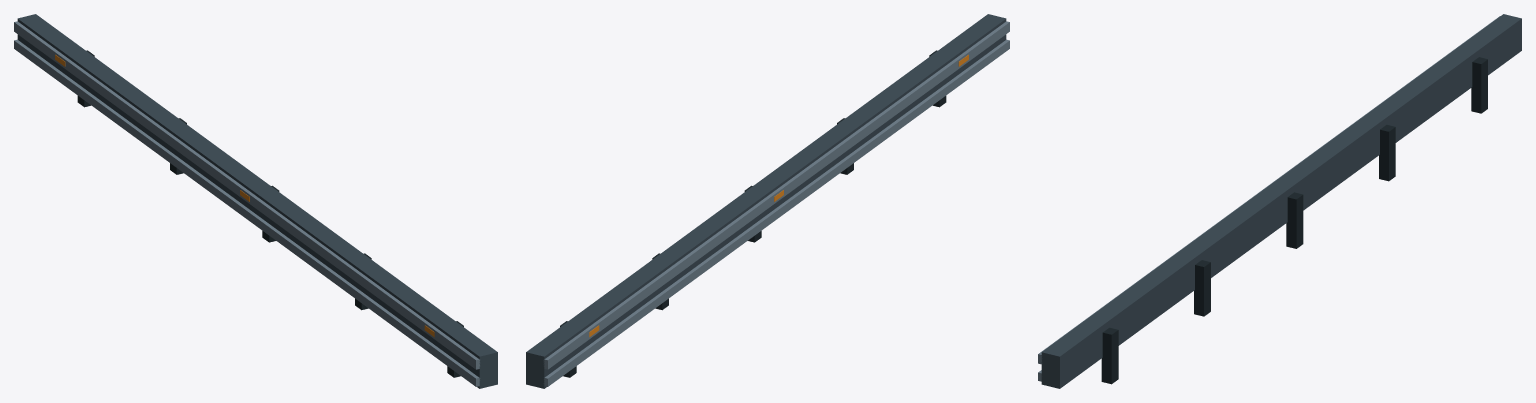
The model's file is CurveGuardrail.obj.
The picture shows the model from 3 angles, left to right: view 1: azimuth 30°, elevation 25°; view 2: azimuth 150°, elevation 25°; view 3: azimuth 330°, elevation 25°; orthographic projection.
Size of the model in its own units: 0.586 by 1.02 by 15.04.
